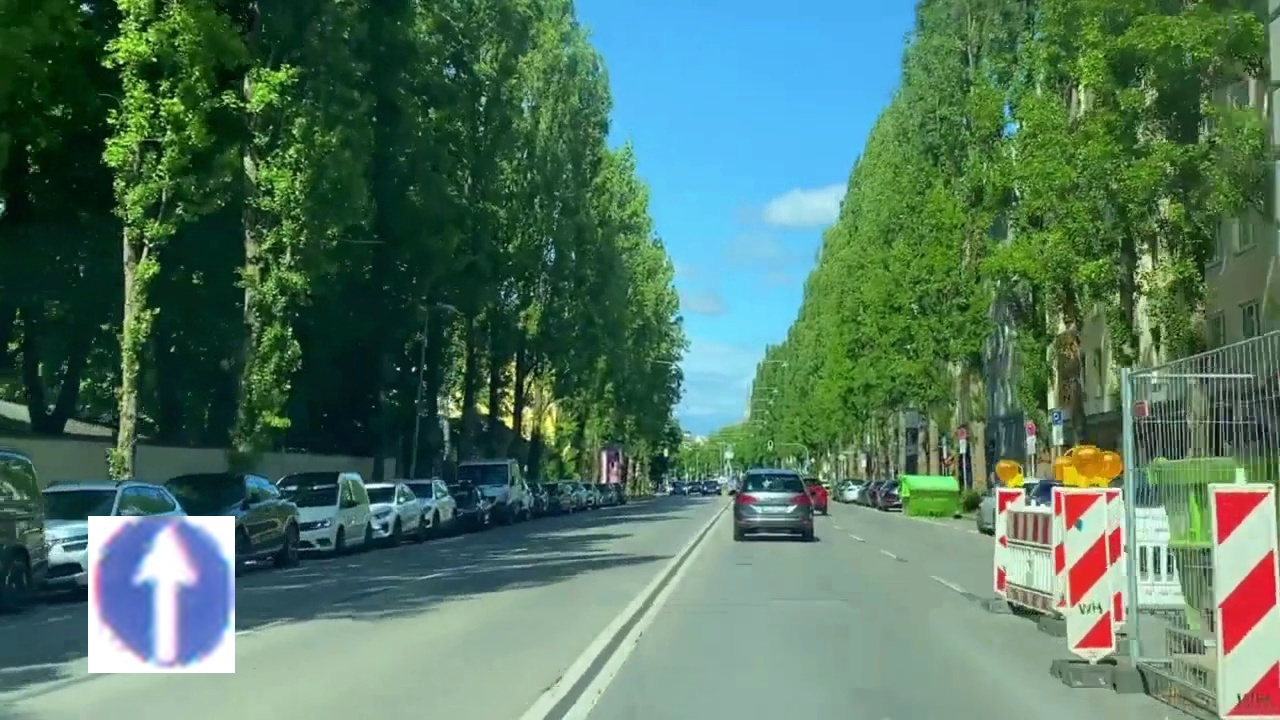Ahead only: (88, 516, 235, 673)
